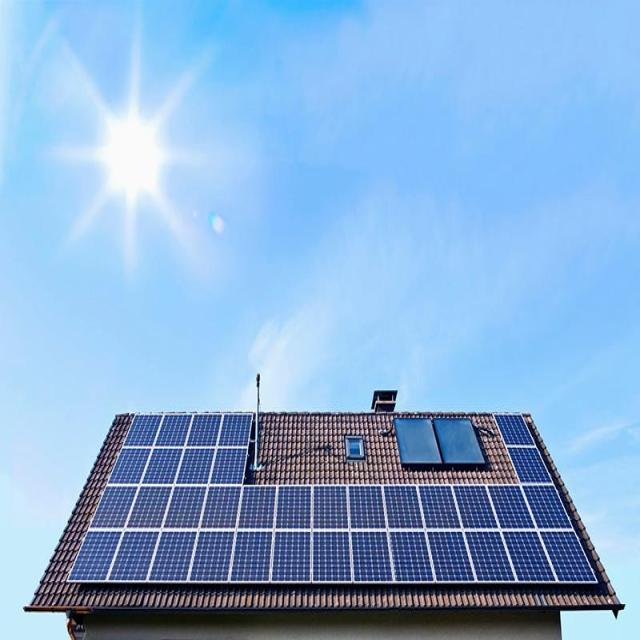clean-solar-panel: (69, 413, 598, 585)
